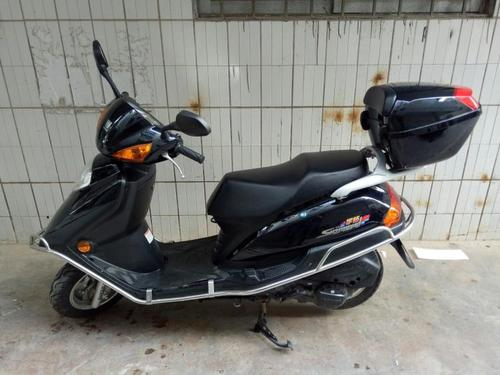motor: (66, 35, 454, 341)
